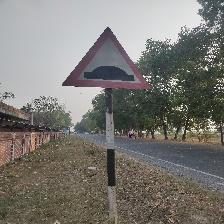Speed-breaker: (63, 29, 148, 89)
